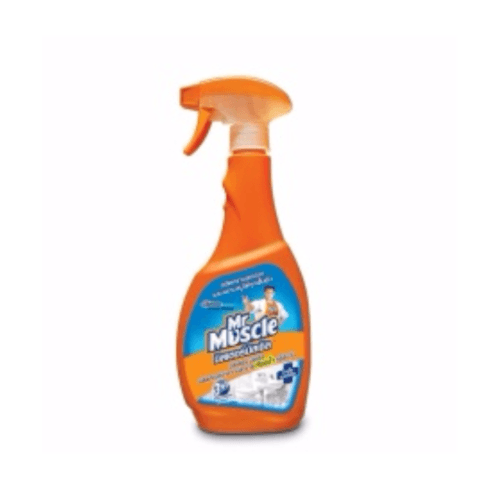Cleaning_solution: (159, 67, 322, 446)
